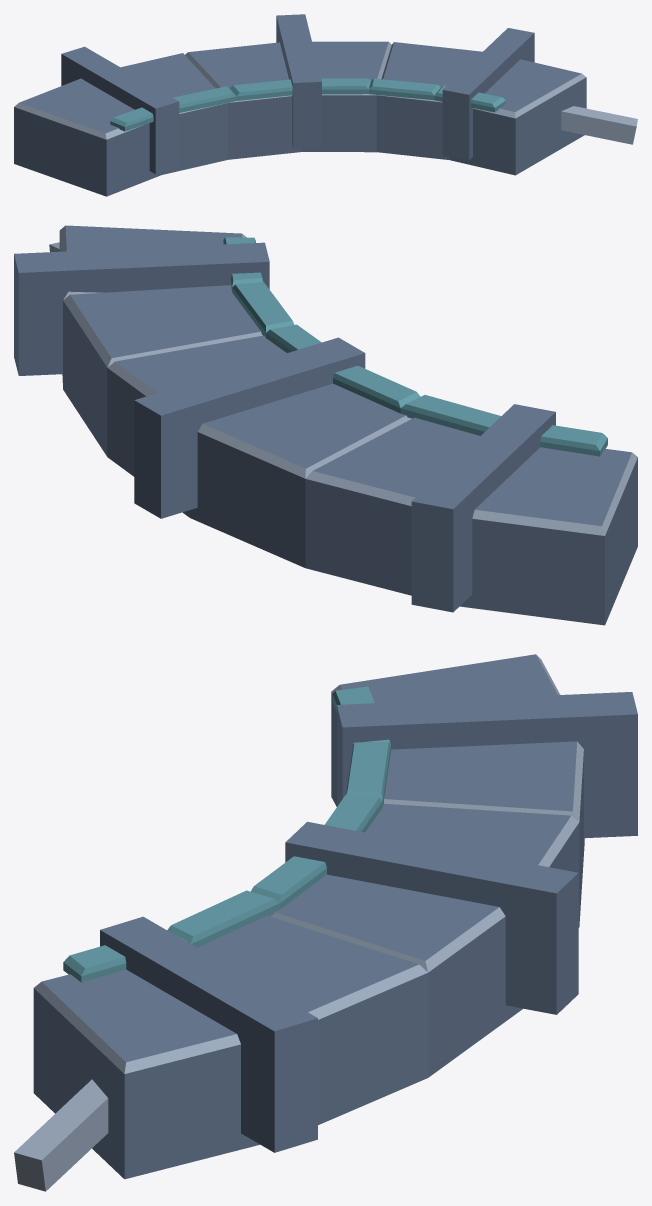
File: station_ring_section.glb
3 renders of one model, top to bottom at view 1: azimuth 30°, elevation 25°; view 2: azimuth 150°, elevation 25°; view 3: azimuth 270°, elevation 25°, orthographic. The views are drawn at different scales.
Parts seen in each view (by area): view 1: station_ring_section; view 2: station_ring_section; view 3: station_ring_section.
Part boxes in pixels (x1,y1,x2,y2): station_ring_section: [14, 14, 637, 196]; station_ring_section: [14, 225, 637, 625]; station_ring_section: [14, 654, 637, 1191].
Bounding box in the file's own units: 4.67 × 0.68 × 2.79.
